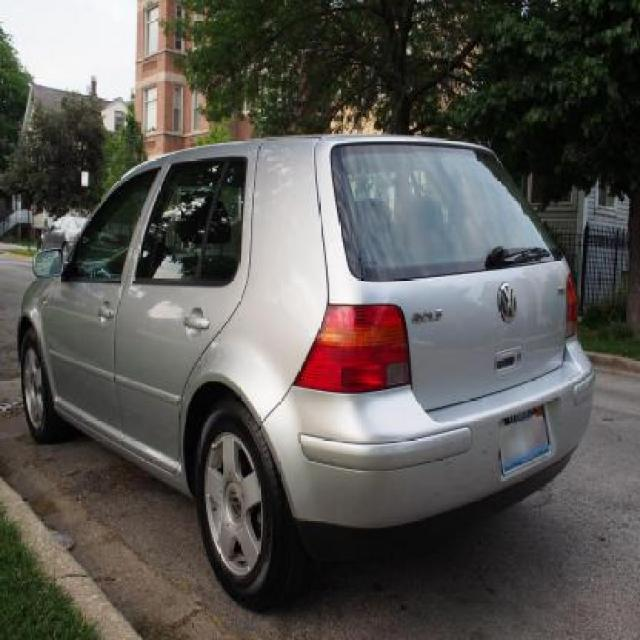License-Plates: (496, 404, 556, 480)
